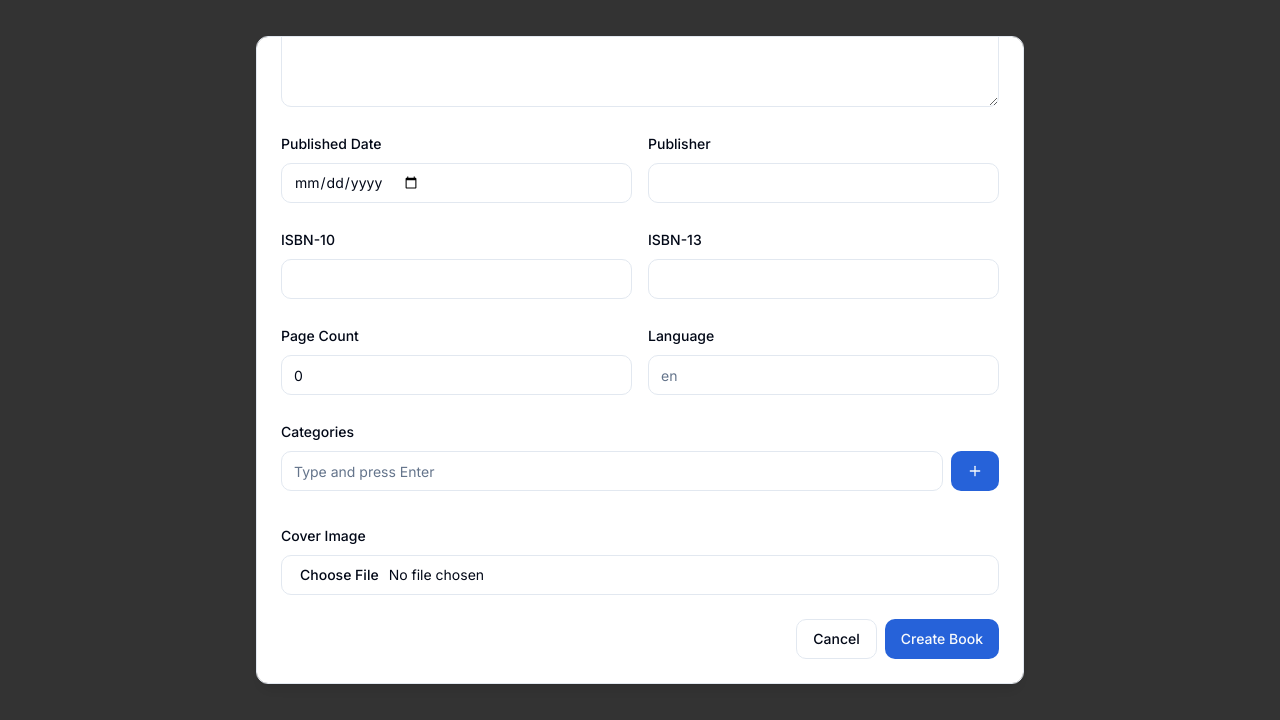
Scenario: BookFormDialog › validates required fields for new book
The image size is (1280, 720).
(page scrolled)
// Try to submit without filling required fields
What coordinates should you click on to do the following:
click the button "Create Book"
I would click on:
 (942, 639)
Its box is left=885, top=619, right=999, bottom=659.
(page scrolled)
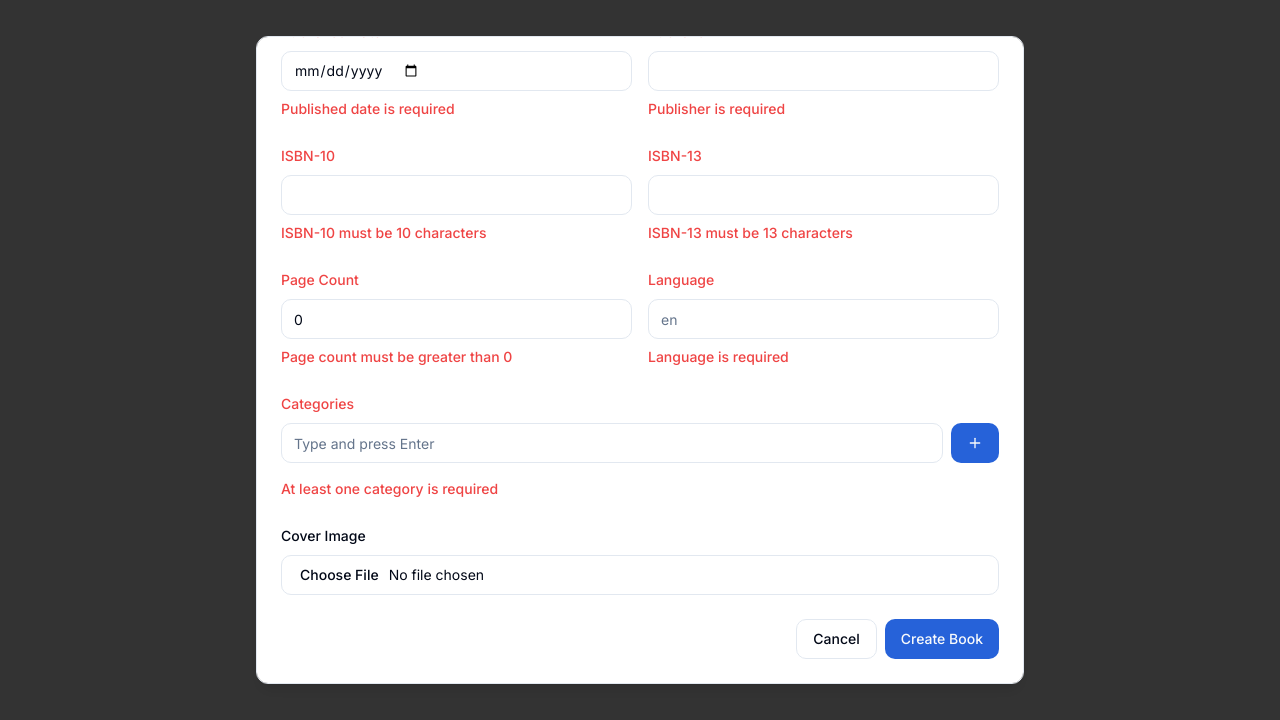
expect the text "Published date is required" is shown: met, box left=281, top=100, right=455, bottom=117
expect the text "Publisher is required" is shown: met, box left=648, top=100, right=785, bottom=117
expect the text "Language is required" is shown: met, box left=648, top=348, right=789, bottom=365
